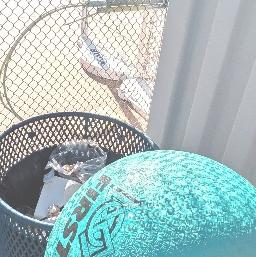algae: (38, 147, 256, 257)
